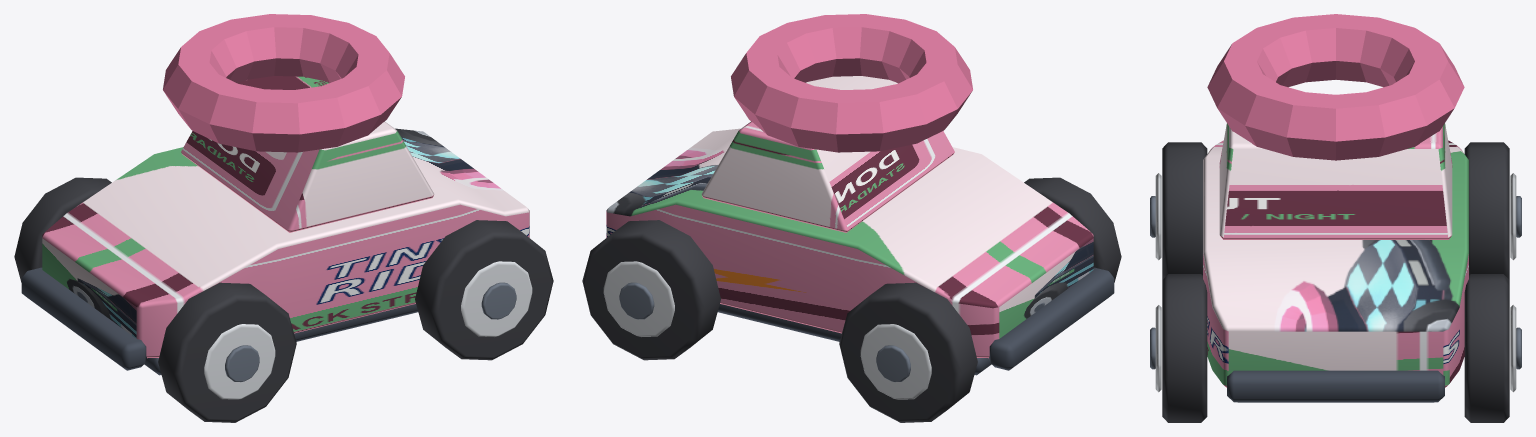
The picture shows the model from 3 angles, left to right: view 1: azimuth 30°, elevation 25°; view 2: azimuth 150°, elevation 25°; view 3: azimuth 270°, elevation 25°; orthographic projection. The views are drawn at different scales.
Parts seen in each view (by area): view 1: SS-05_connected_shell, real donut ring, SS-05_cabin, Tire, Tire.002, front bumper, Tire.001, Rim, Rim.002, underbody, Hub.002, Hub; view 2: SS-05_connected_shell, real donut ring, SS-05_cabin, Tire.001, Tire.003, front bumper, Tire, Rim.001, Rim.003, underbody, Hub.003, Hub.001; view 3: SS-05_connected_shell, real donut ring, SS-05_cabin, rear bumper, Tire.002, Tire.003, Tire, Tire.001, Rim, Rim.001, Rim.002, Rim.003.
Boxes of the visible parts, bbox=[...] form: SS-05_connected_shell: bbox=[42, 128, 529, 358]; real donut ring: bbox=[163, 14, 404, 152]; SS-05_cabin: bbox=[181, 76, 434, 232]; Tire: bbox=[158, 282, 296, 422]; Tire.002: bbox=[415, 220, 553, 360]; front bumper: bbox=[21, 267, 146, 370]; Tire.001: bbox=[14, 177, 111, 282]; Rim: bbox=[204, 324, 275, 399]; Rim.002: bbox=[461, 261, 532, 336]; underbody: bbox=[144, 304, 418, 375]; Hub.002: bbox=[481, 282, 516, 319]; Hub: bbox=[225, 345, 259, 382]; SS-05_connected_shell: bbox=[606, 128, 1093, 358]; real donut ring: bbox=[731, 14, 972, 152]; SS-05_cabin: bbox=[701, 76, 954, 232]; Tire.001: bbox=[839, 282, 977, 422]; Tire.003: bbox=[582, 220, 720, 360]; front bumper: bbox=[989, 267, 1114, 370]; Tire: bbox=[1024, 177, 1121, 282]; Rim.001: bbox=[860, 324, 931, 399]; Rim.003: bbox=[603, 261, 674, 336]; underbody: bbox=[717, 304, 991, 375]; Hub.003: bbox=[619, 282, 654, 319]; Hub.001: bbox=[876, 345, 910, 382]; SS-05_connected_shell: bbox=[1203, 140, 1468, 387]; real donut ring: bbox=[1207, 14, 1464, 160]; SS-05_cabin: bbox=[1219, 123, 1452, 239]; rear bumper: bbox=[1227, 370, 1444, 402]; Tire.002: bbox=[1162, 274, 1207, 422]; Tire.003: bbox=[1464, 274, 1509, 422]; Tire: bbox=[1162, 142, 1207, 279]; Tire.001: bbox=[1464, 142, 1509, 279]; Rim: bbox=[1155, 173, 1161, 260]; Rim.001: bbox=[1510, 173, 1516, 260]; Rim.002: bbox=[1155, 305, 1161, 392]; Rim.003: bbox=[1510, 305, 1516, 392].
Bounding box in the file's own units: 295 × 183 × 214.
